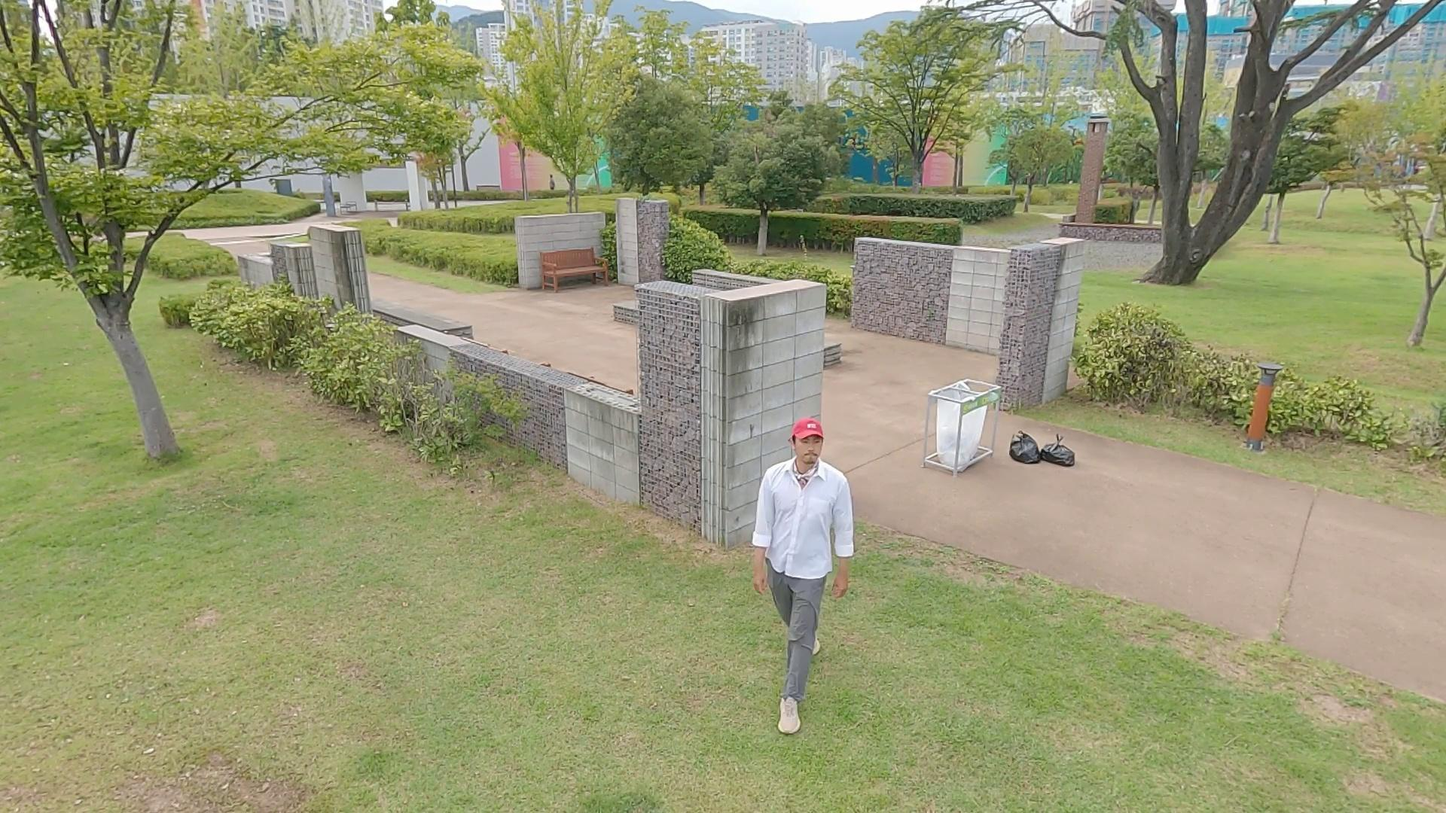person: (755, 412, 855, 742)
trash: (1037, 429, 1077, 469), (1009, 429, 1039, 465)
